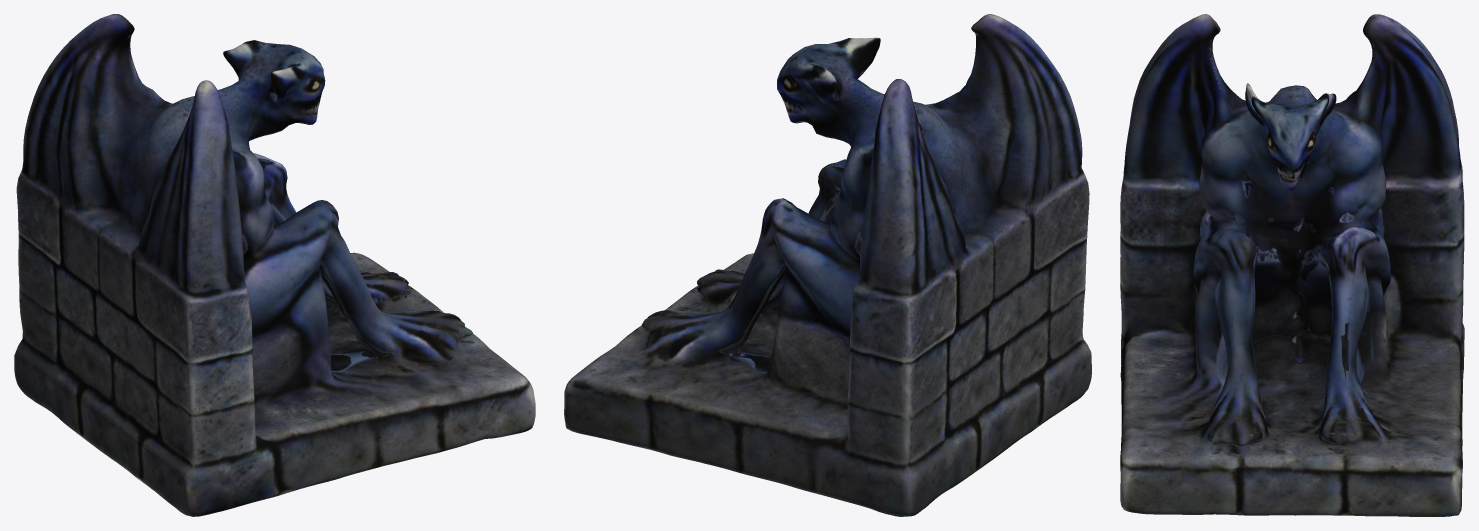
Rendered from Gargoyle 2.fbx.
The picture shows the model from 3 angles, left to right: view 1: azimuth 30°, elevation 25°; view 2: azimuth 150°, elevation 25°; view 3: azimuth 270°, elevation 25°; orthographic projection. The views are drawn at different scales.
Parts seen in each view (by area): view 1: mesh; view 2: mesh; view 3: mesh.
Boxes of the visible parts, bbox=[...] form: mesh: bbox=[14, 14, 535, 516]; mesh: bbox=[564, 14, 1091, 516]; mesh: bbox=[1120, 14, 1464, 516].
Bounding box in the file's own units: 93.71 × 99.77 × 83.32.
